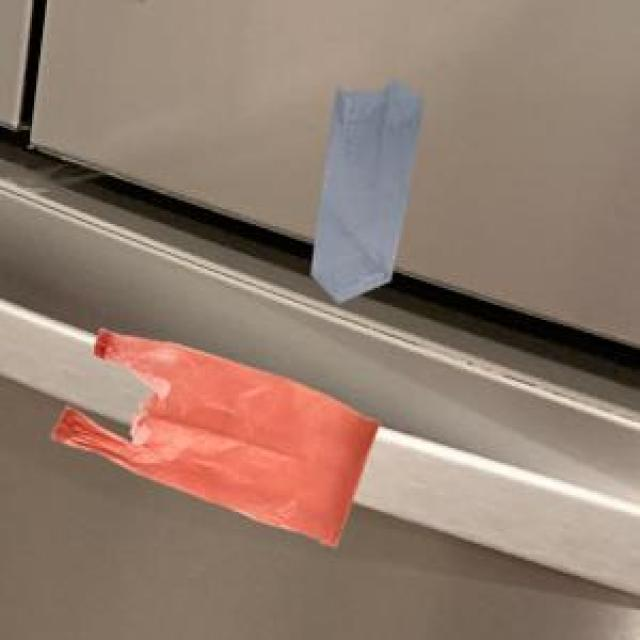plastic: (39, 315, 402, 561)
